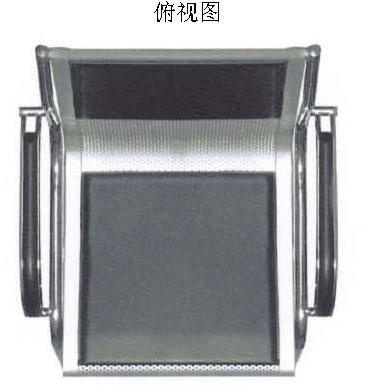obstacle: (20, 45, 336, 374)
